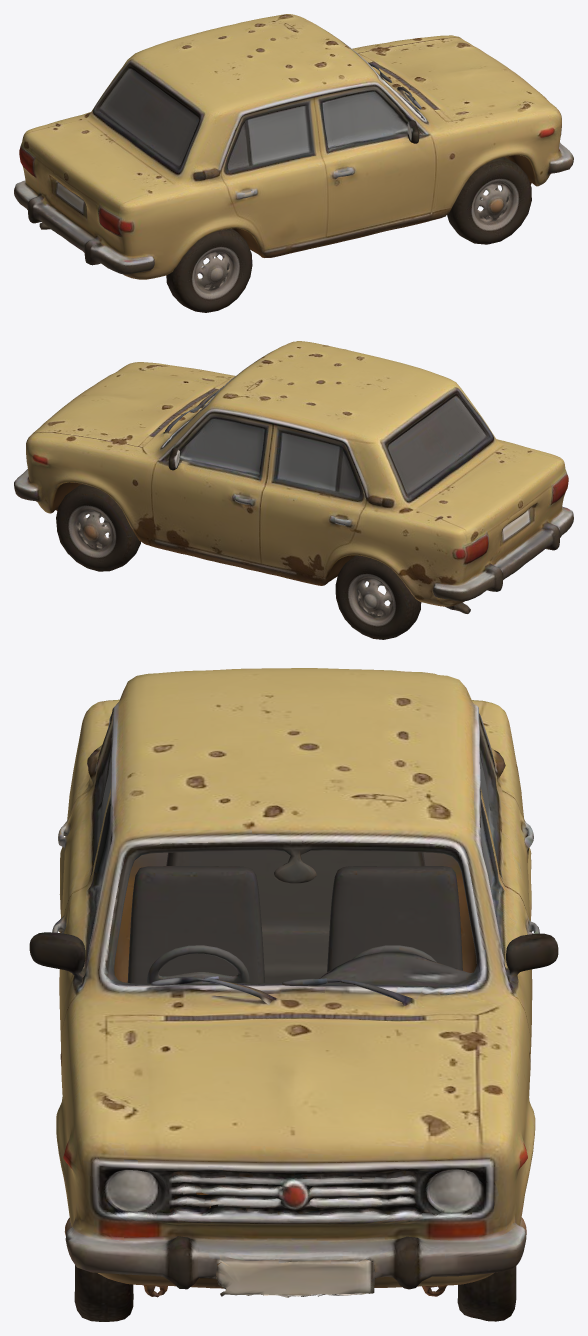
The model's file is ml_job_car_dirty.glb.
3 views of the same model, one above another, from view 1: azimuth 30°, elevation 25°; view 2: azimuth 150°, elevation 25°; view 3: azimuth 270°, elevation 25° (orthographic). The views are drawn at different scales.
Visible parts, largest first — view 1: tripo_node_8f3c14e4-c597-4937-a86c-58d098ae3d1a; view 2: tripo_node_8f3c14e4-c597-4937-a86c-58d098ae3d1a; view 3: tripo_node_8f3c14e4-c597-4937-a86c-58d098ae3d1a.
Boxes of the visible parts, bbox=[...] form: tripo_node_8f3c14e4-c597-4937-a86c-58d098ae3d1a: bbox=[14, 14, 573, 312]; tripo_node_8f3c14e4-c597-4937-a86c-58d098ae3d1a: bbox=[14, 341, 573, 639]; tripo_node_8f3c14e4-c597-4937-a86c-58d098ae3d1a: bbox=[29, 668, 558, 1321].
Size of the model in its own units: 0.9796 by 0.3903 by 0.475.
Materials: 1 (1 with a texture image).
